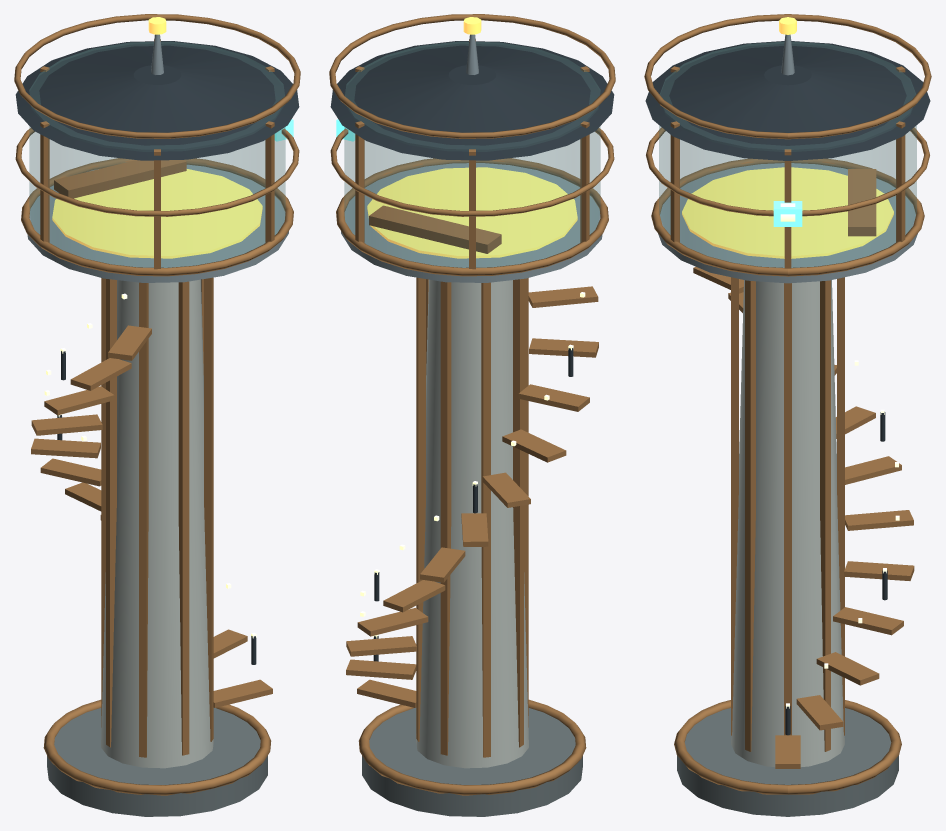
The model's file is sky-pod.lod1.glb.
3 views of the same model, side by side, from view 1: azimuth 30°, elevation 25°; view 2: azimuth 150°, elevation 25°; view 3: azimuth 270°, elevation 25° (orthographic).
Parts seen in each view (by area): view 1: structure, scanner; view 2: structure, scanner; view 3: structure, scanner.
Boxes of the visible parts, x1=… form: structure: x1=14, y1=14, x2=300, y2=816; scanner: x1=15, y1=119, x2=299, y2=216; structure: x1=329, y1=14, x2=615, y2=816; scanner: x1=330, y1=119, x2=614, y2=216; structure: x1=644, y1=14, x2=931, y2=816; scanner: x1=646, y1=127, x2=929, y2=226.
Size of the model in its own units: 5.16 by 14.5 by 5.04.
